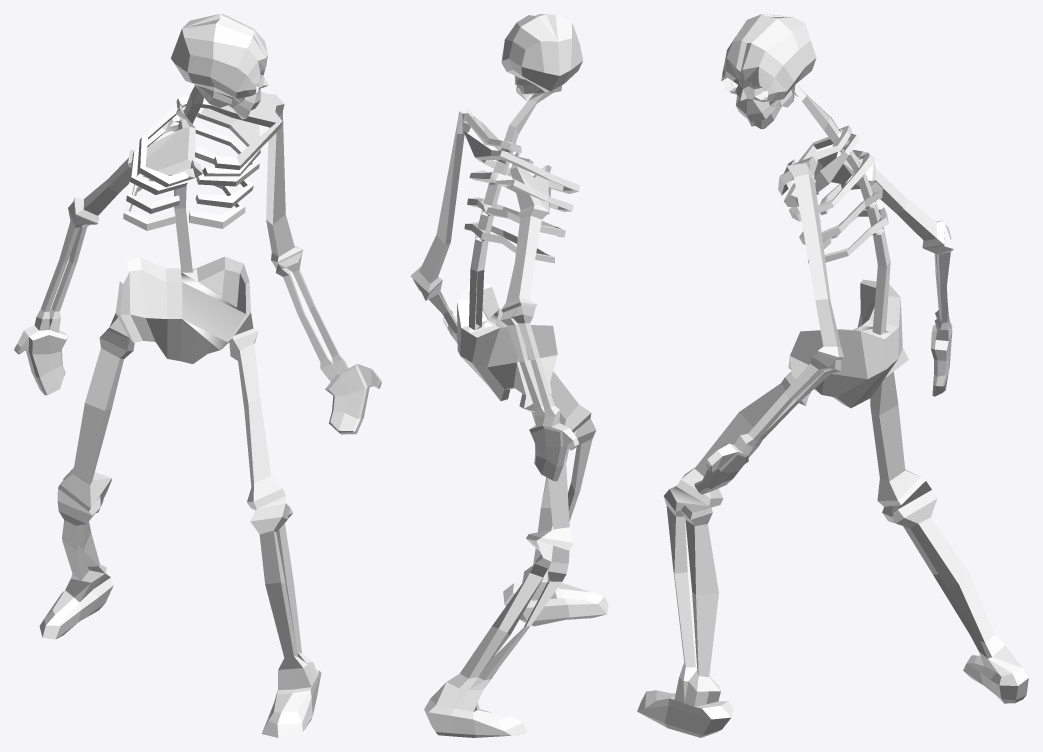
File: SkeletonIdle(22).obj
The picture shows the model from 3 angles, left to right: view 1: azimuth 30°, elevation 25°; view 2: azimuth 150°, elevation 25°; view 3: azimuth 270°, elevation 25°; orthographic projection. The views are drawn at different scales.
Parts seen in each view (by area): view 1: Object002; view 2: Object002; view 3: Object002.
Boxes of the visible parts, left/top/right/bottom form: Object002: left=14, top=14, right=381, bottom=737; Object002: left=410, top=14, right=608, bottom=737; Object002: left=637, top=14, right=1028, bottom=737.
Size of the model in its own units: 437 by 1119 by 574.
